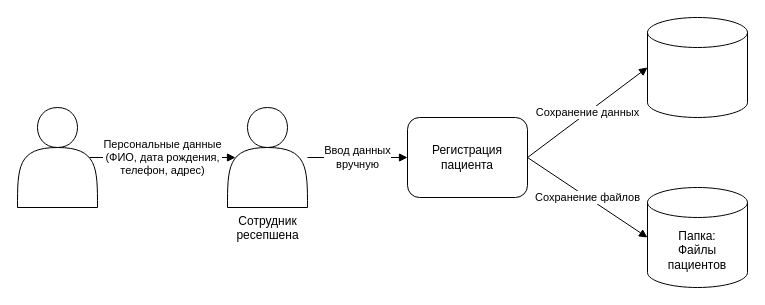
Some shapes in this 765 by 305 pixel diagram are drawn without their labels. Here are the shapes that lost their labels. From the top down, the box of each, then its label:
(646, 16, 748, 118): Excel: Список пациентов
(16, 106, 98, 208): Пациент
